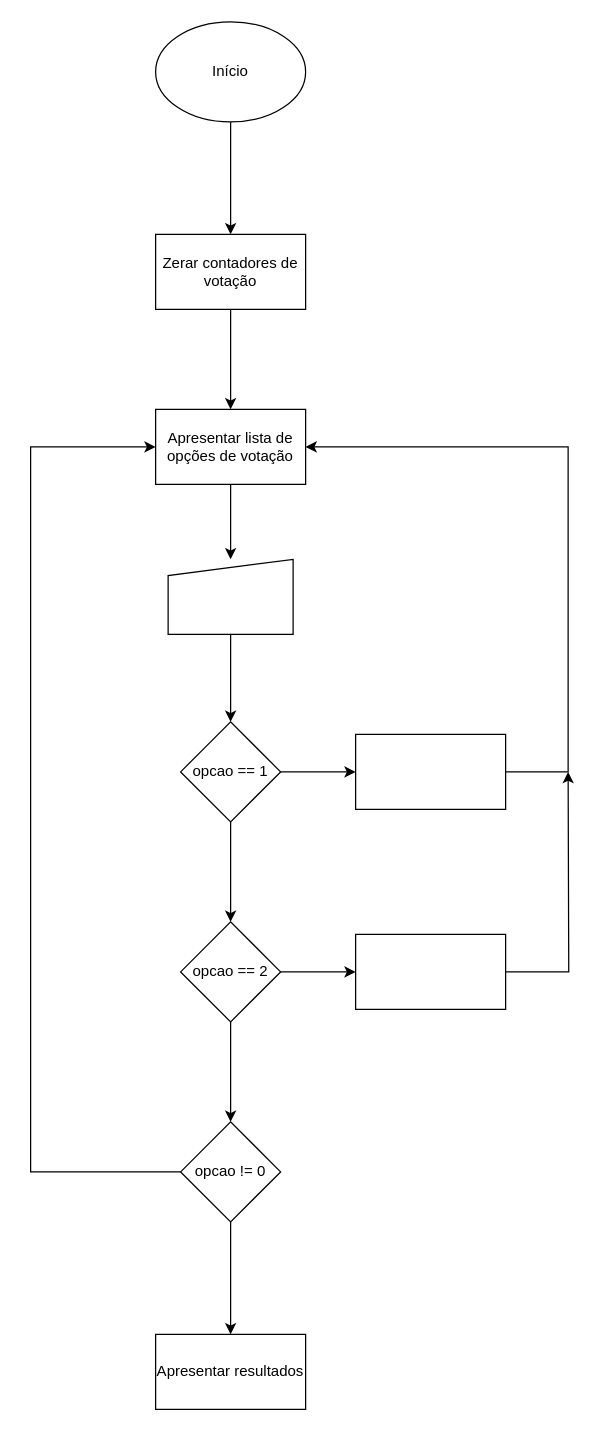
The diagram is 601 pixels wide and 1431 high, and some of its shapes have lost their labels. Each missing label, with the centre of its shape:
candidato1++: the point at 430,771
candidato2++: the point at 430,971
opcao: the point at 230,596
